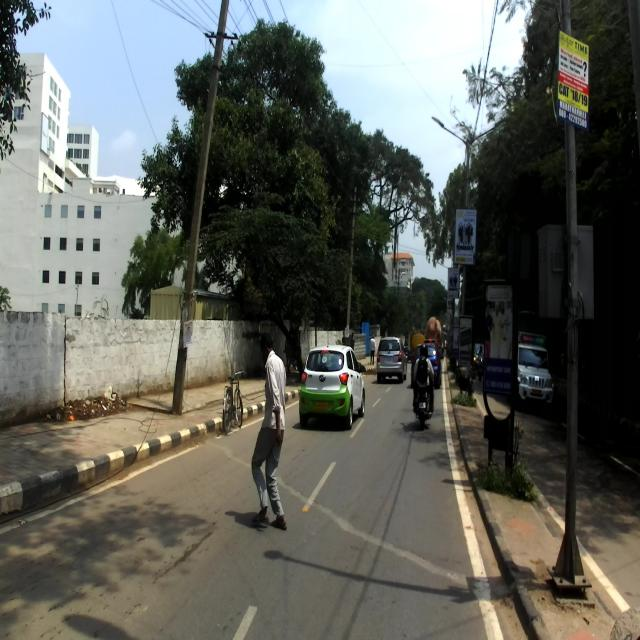car: (298, 344, 366, 429), (376, 335, 407, 383)
motorcycle: (411, 366, 436, 432)
truck: (513, 323, 558, 411)
